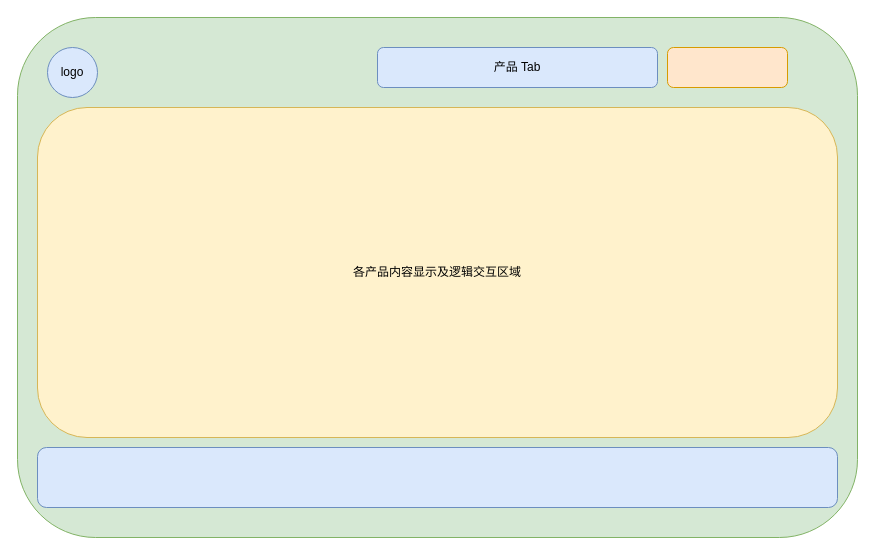
Some shapes in this 875 by 555 pixel diagram are drawn without their labels. Here are the shapes that lost their labels. From the top down, the centre of each, then its label:
At pixel 727 67: "连接个人钱包".
At pixel 437 477: "底部 （公司介绍，联系我们，协议条文等）".
